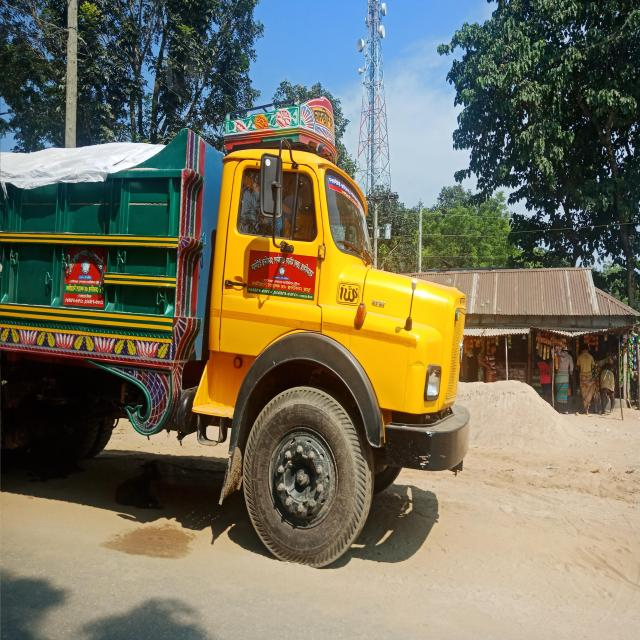truck: (0, 86, 478, 585)
